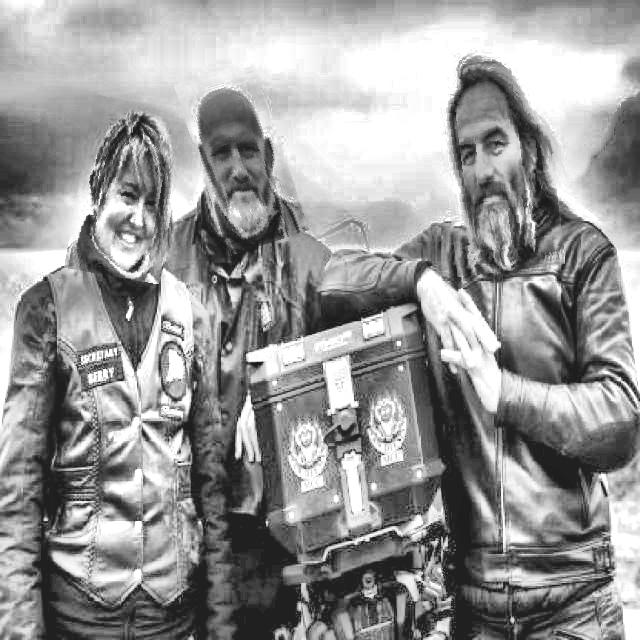happy: (72, 99, 182, 281)
neutral: (436, 43, 558, 275), (187, 64, 297, 252)
